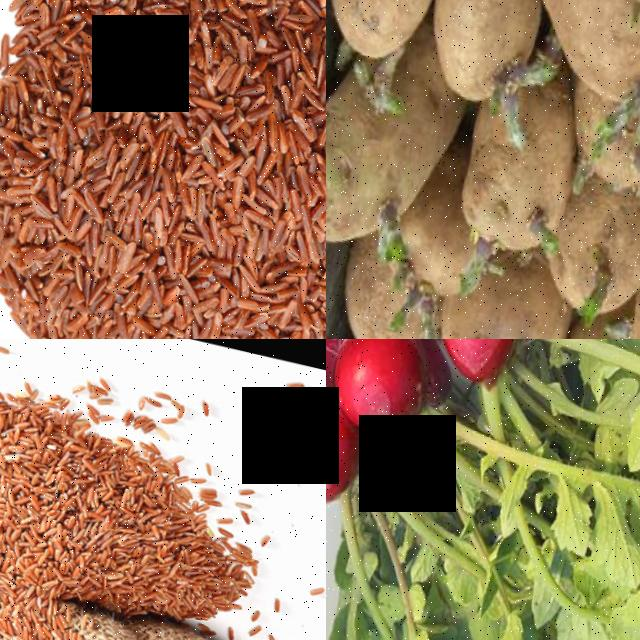potato: (326, 36, 476, 268), (500, 0, 640, 123), (407, 0, 552, 112), (416, 259, 578, 339), (326, 0, 458, 75)
radishes: (326, 339, 625, 640)
red rice: (0, 0, 326, 339), (0, 364, 266, 640)
